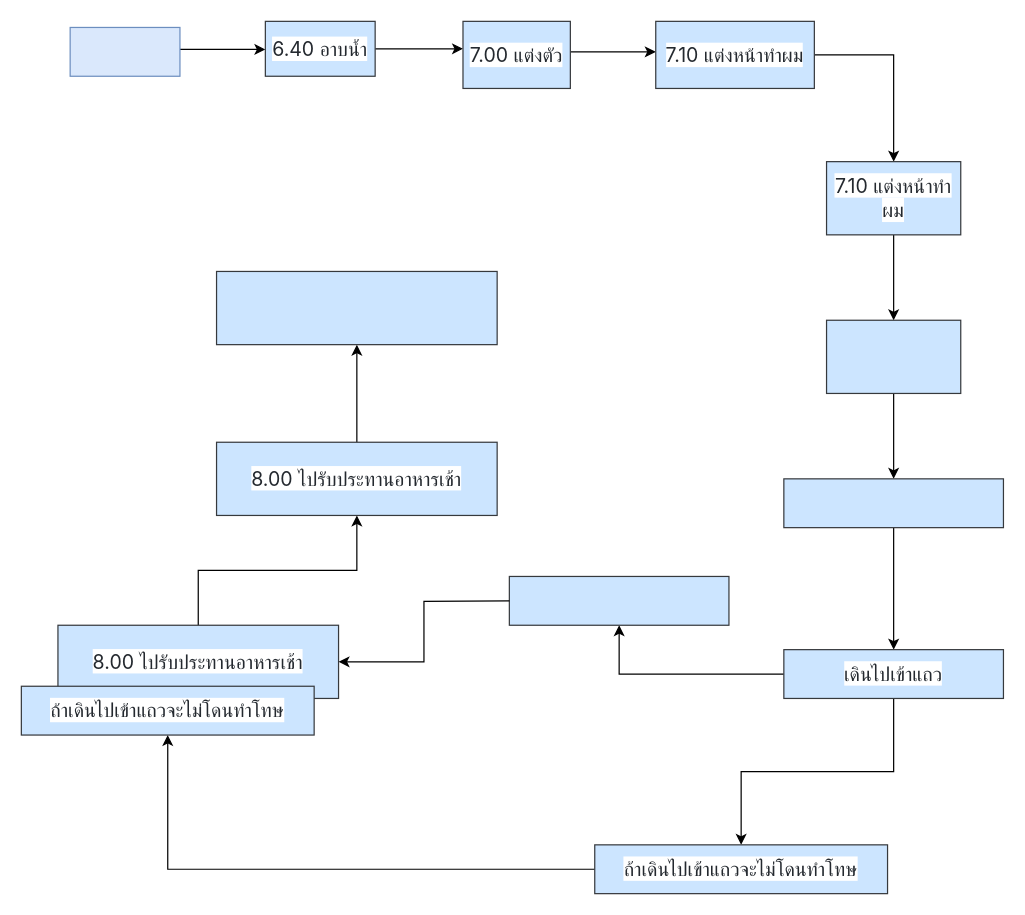
Image size: 1025x915. Some labels were removed from this diagram. The shapes that lost their labels are listed below. From the top down, each one's box as (x1, y1, x2, y2) in pixels, then its label:
(69, 26, 180, 76): 6.30 ตื่นนอน
(215, 270, 497, 345): เข้าห้องเรียน
(825, 319, 961, 393): 7.20 เก็บที่นอน
(783, 478, 1003, 528): 7.30 ลงหอพัก
(508, 575, 729, 625): ถ้าไม่เดินไปเข้าแถว โดนทำโทษ
